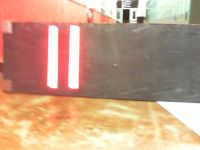switch: (69, 24, 80, 89), (48, 25, 58, 88)
